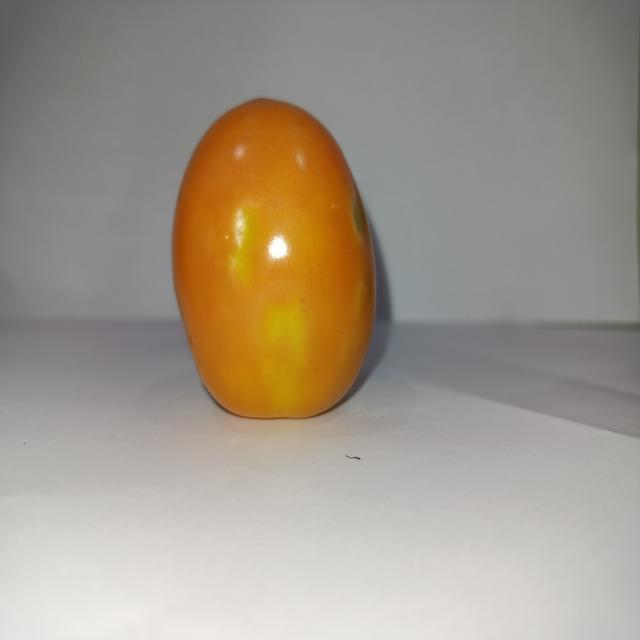Red: (170, 96, 377, 420)
